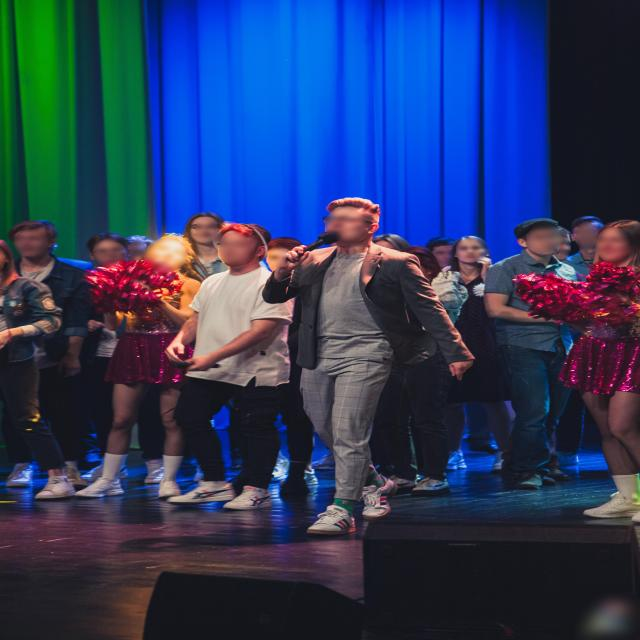Person: (289, 188, 409, 539), (200, 222, 292, 525), (499, 213, 585, 484), (568, 215, 640, 533), (125, 224, 191, 520), (17, 222, 81, 454), (444, 236, 495, 482), (176, 204, 224, 268), (95, 235, 122, 292)
